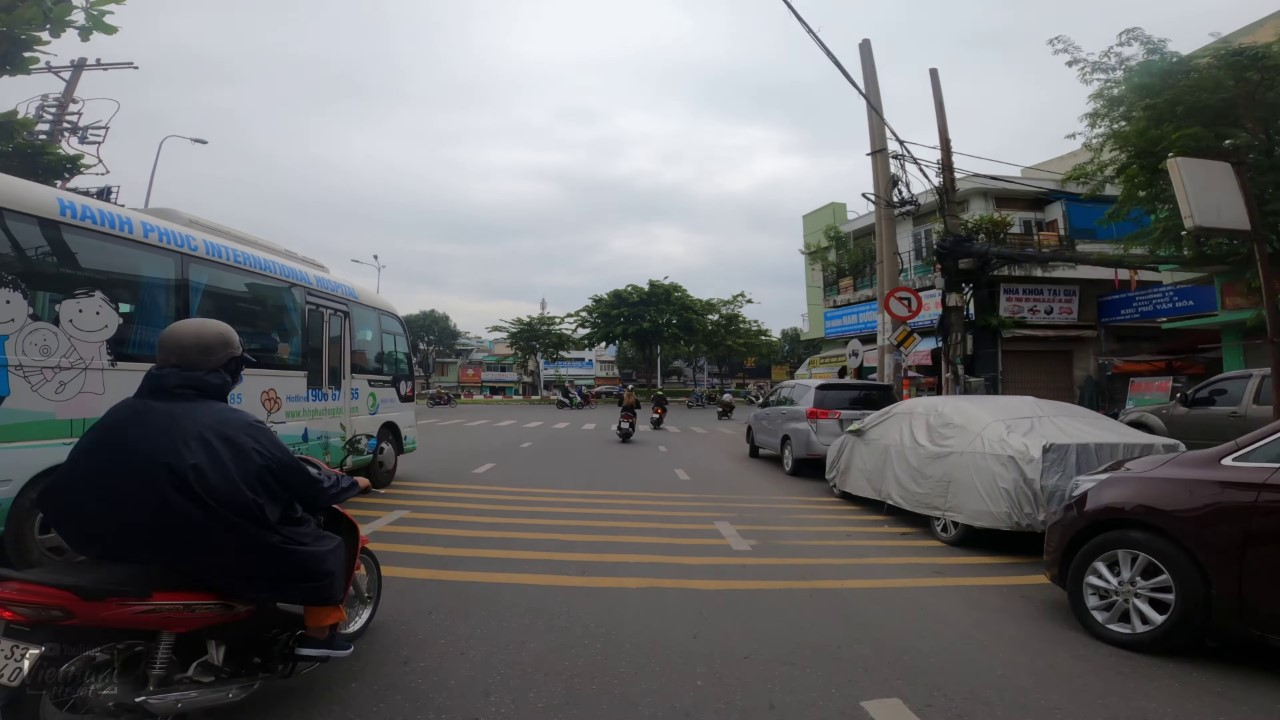cam_re_trai: (882, 284, 924, 323)
